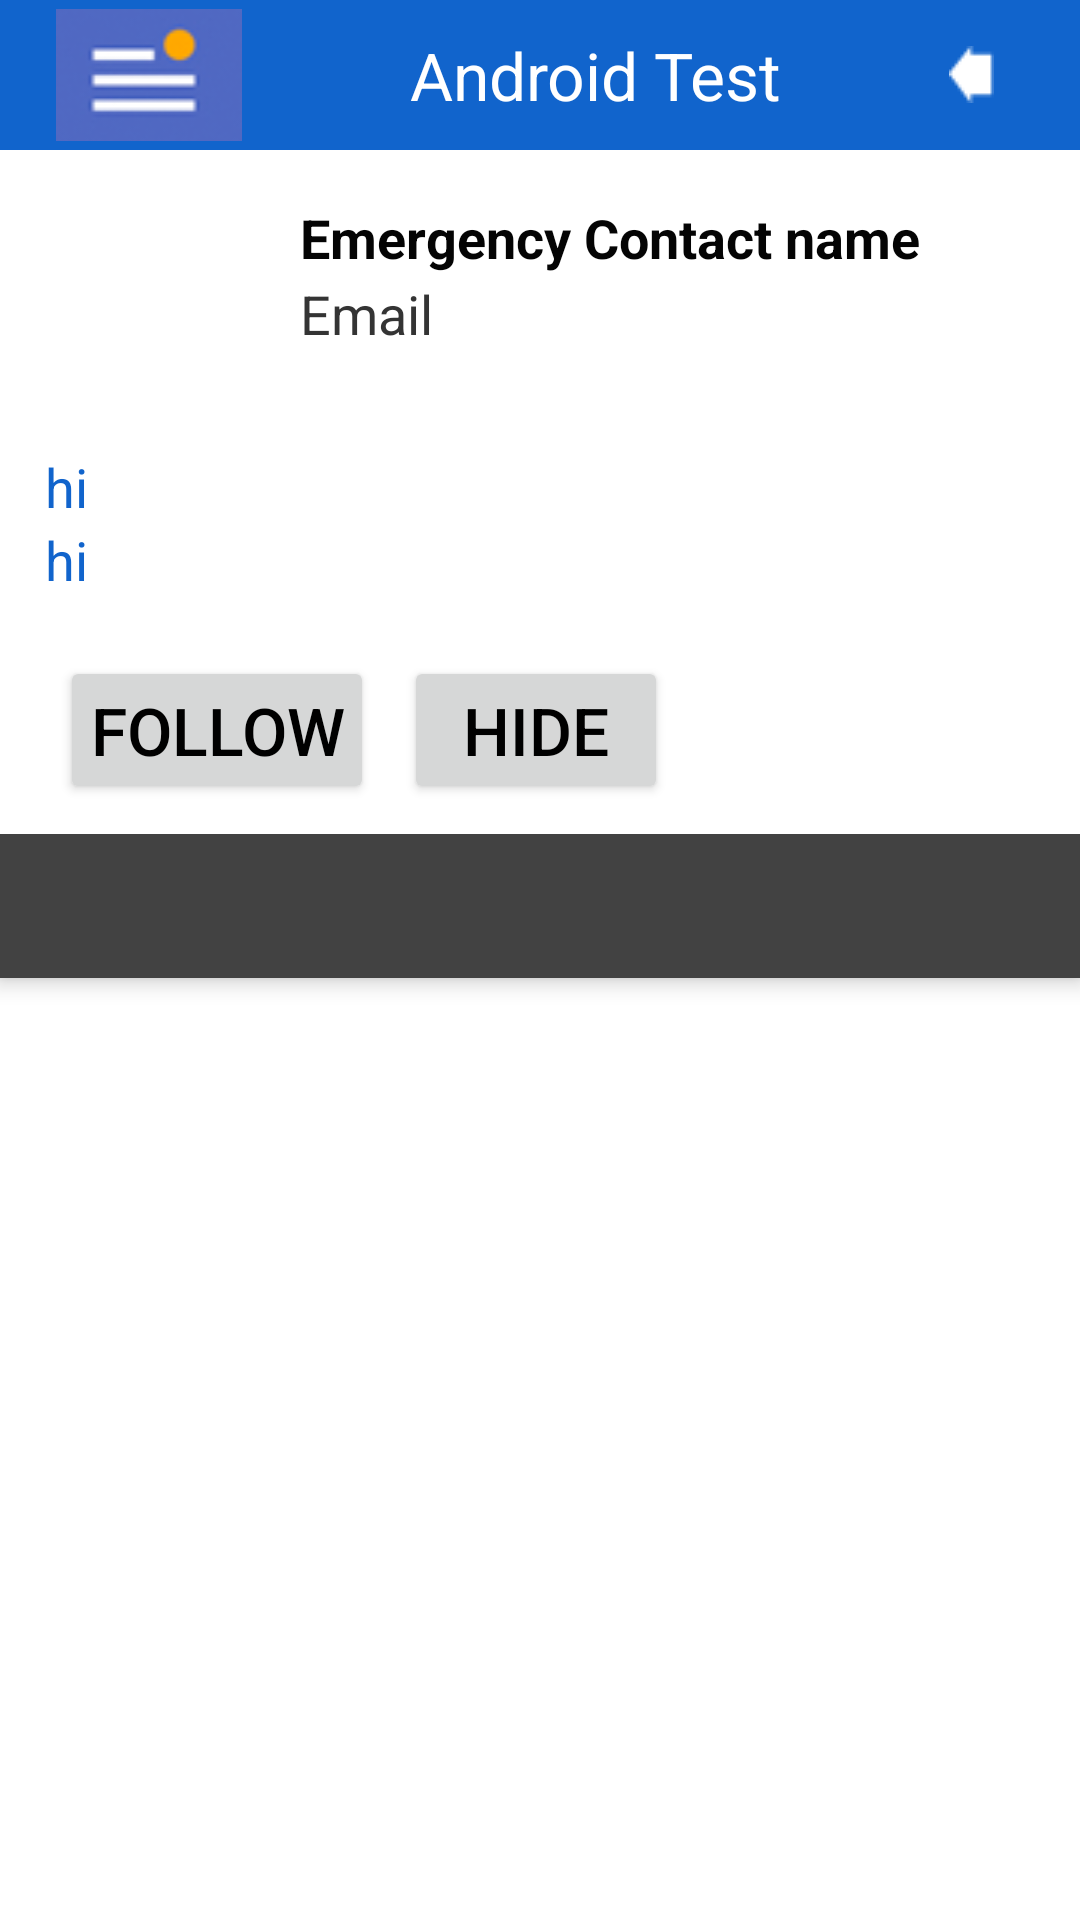

Icons on this 1080w x 1920h Android screen, each with its box as (x1, y1, x2, y2):
back: (949, 46, 994, 103)
slide navigation: (56, 9, 242, 141)
